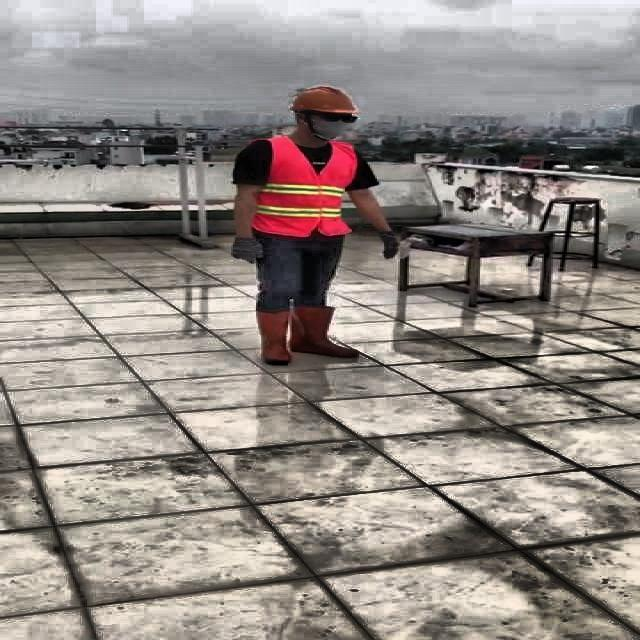safety_helmet: (287, 84, 359, 118)
safety_jacket: (252, 135, 354, 237)
